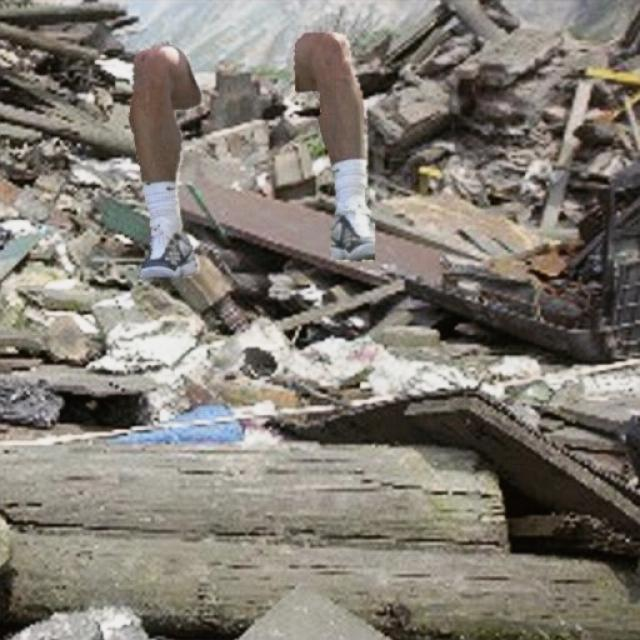Person in Rubble: (128, 32, 374, 276)
